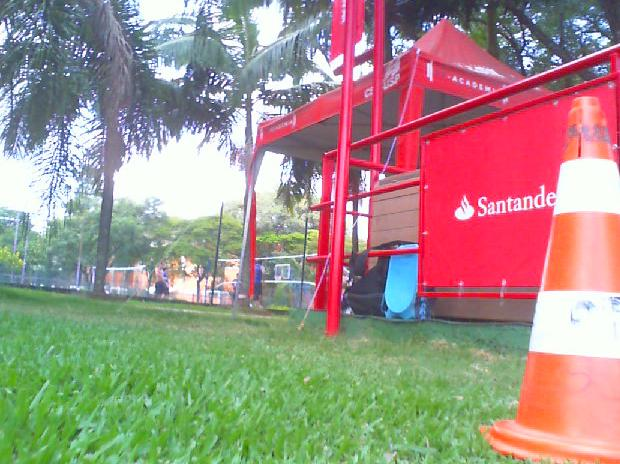0 cone: (480, 97, 620, 464)
